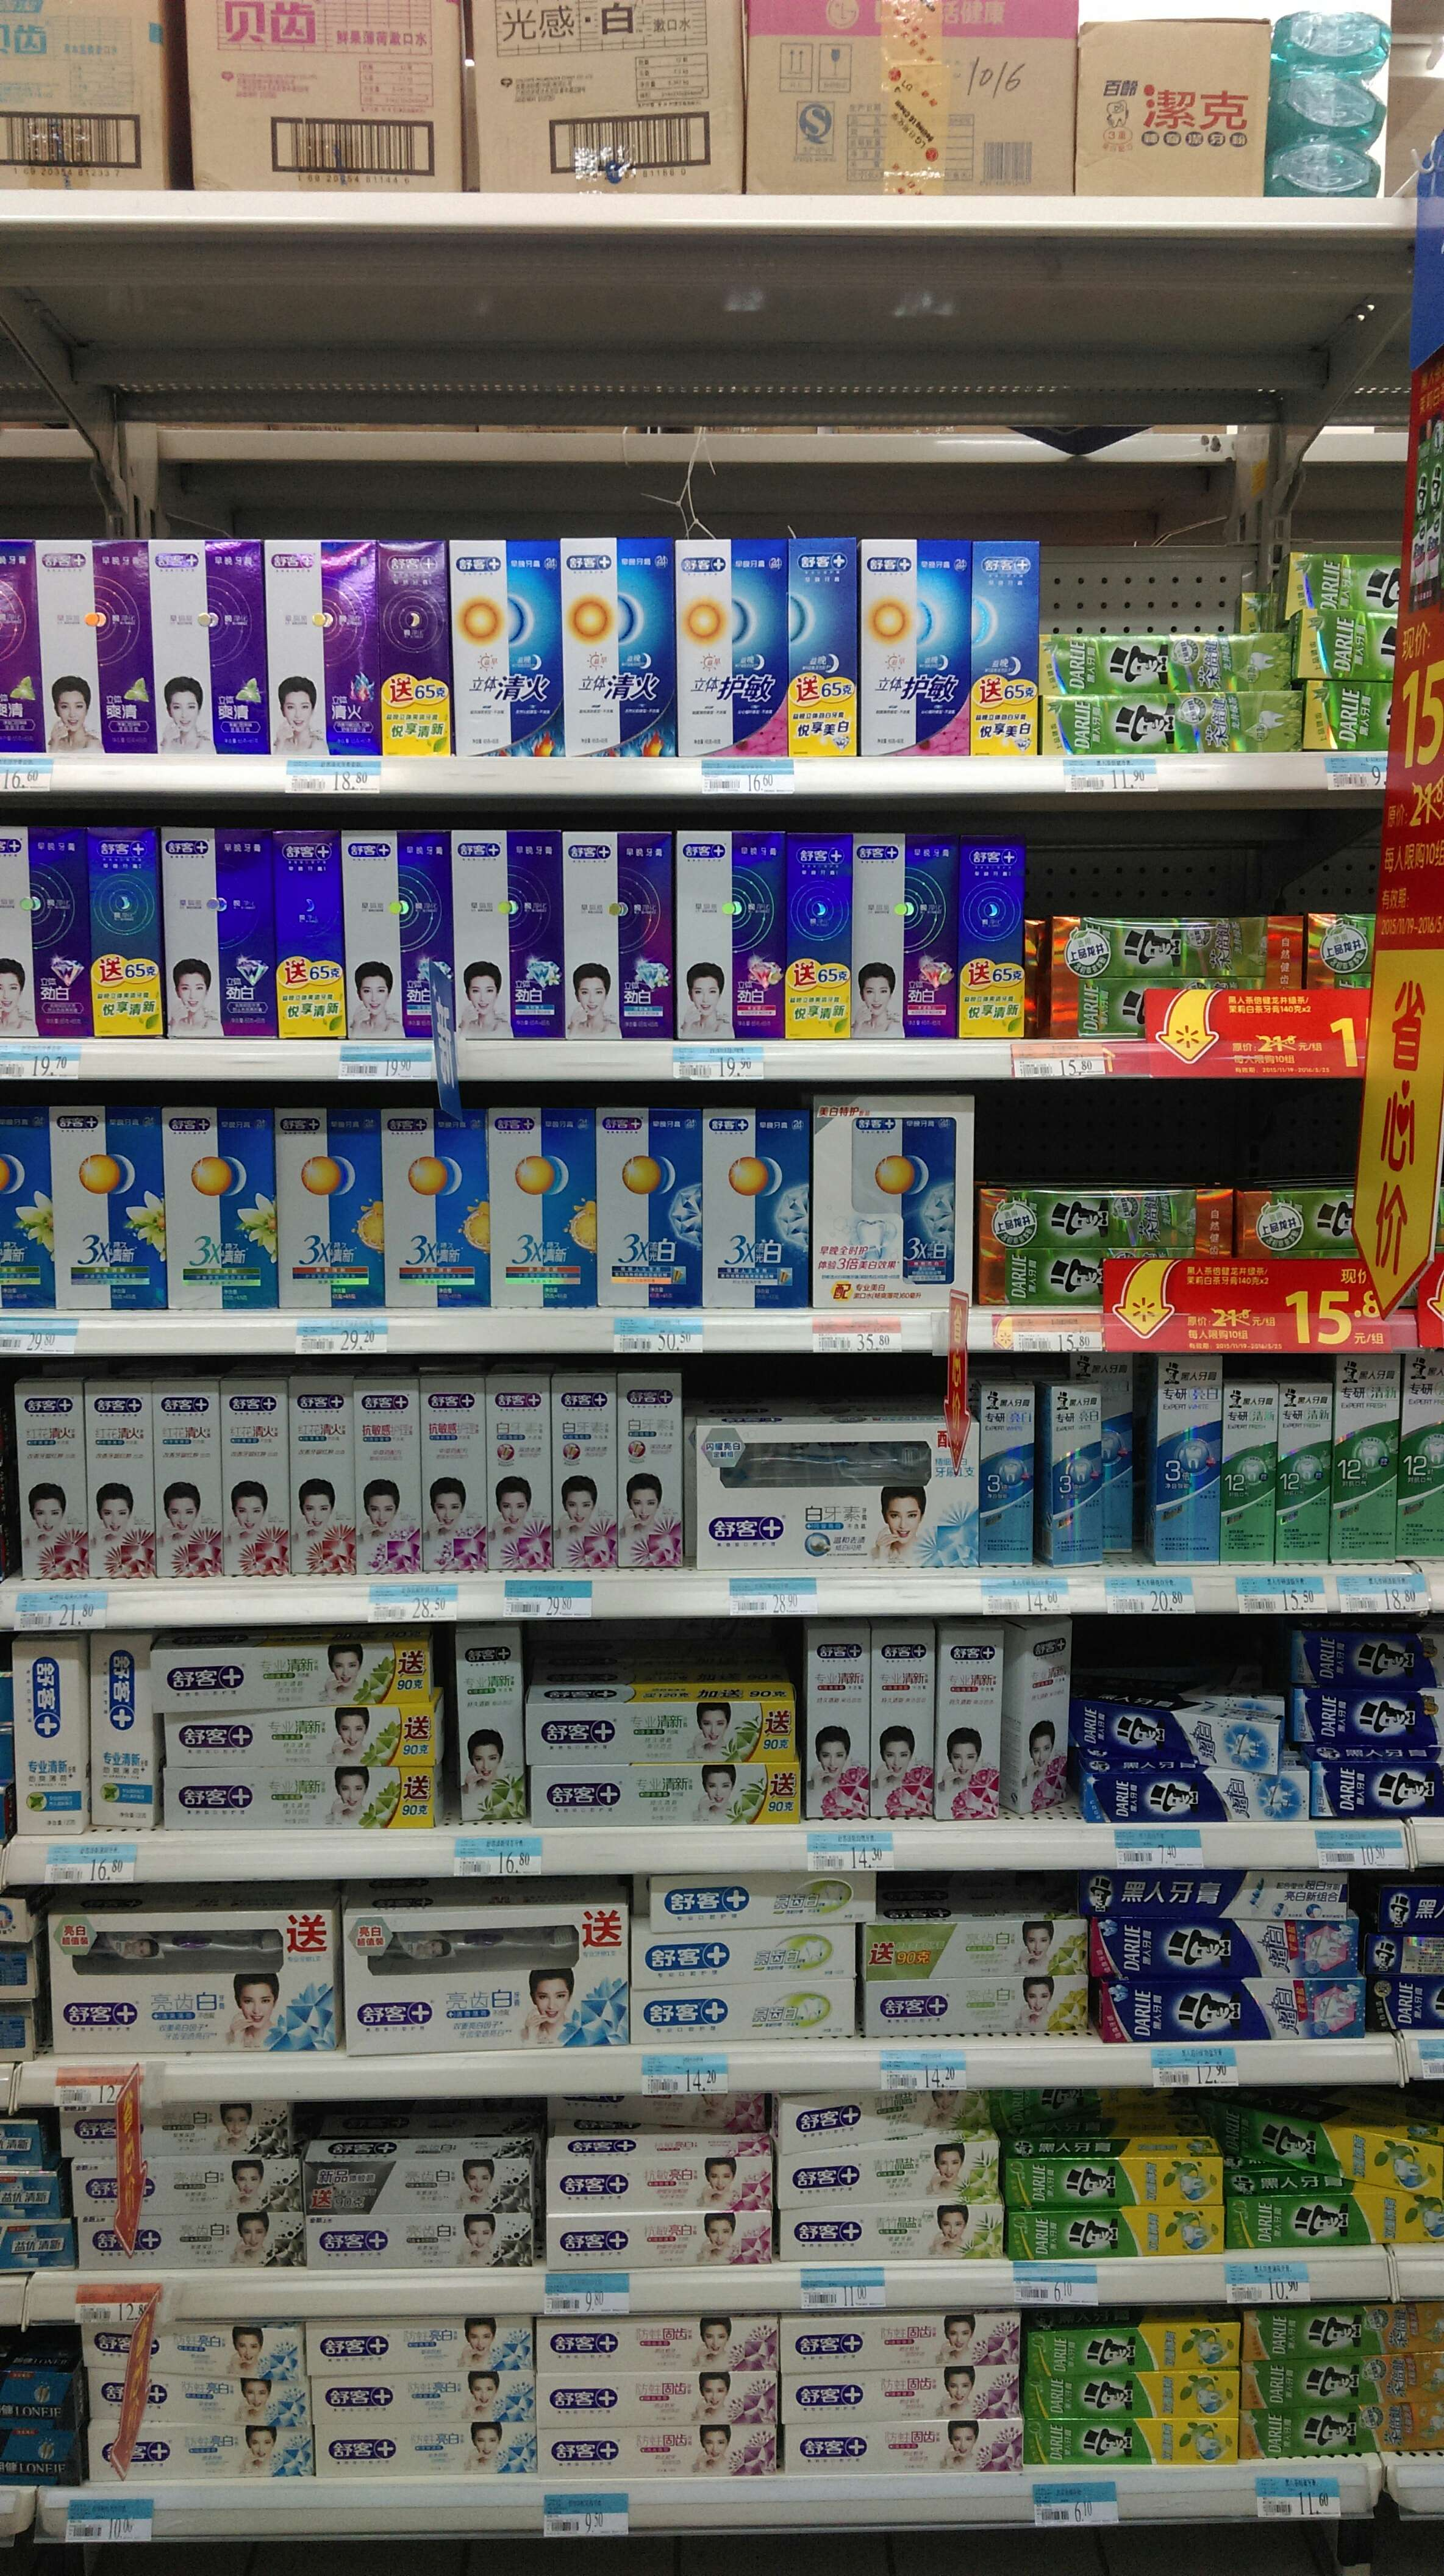Out-of-stock: (524, 1626, 809, 1821)
